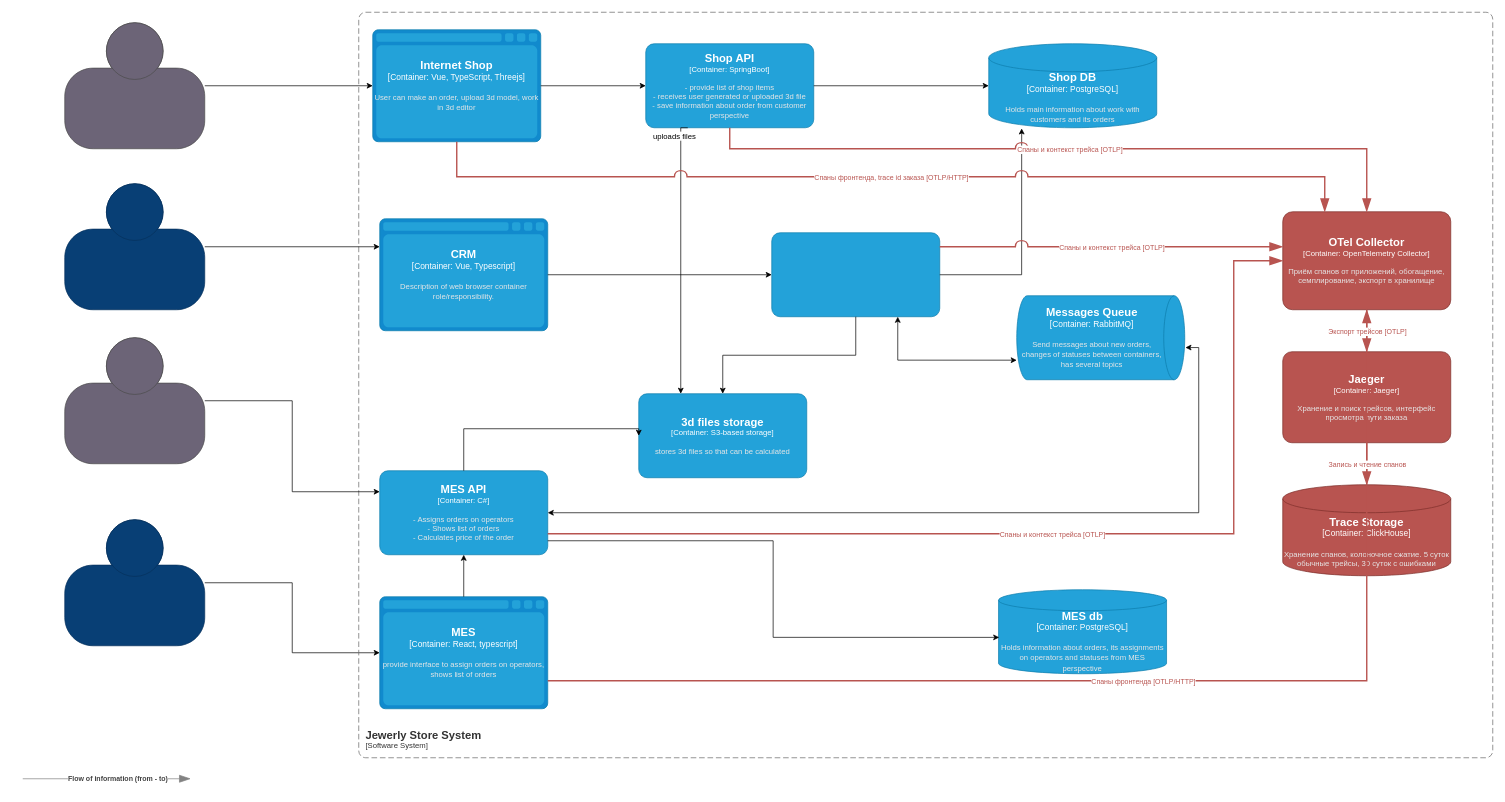
The diagram is 1505 pixels wide and 802 high, and some of its shapes have lost their labels. Here are the shapes that lost their labels. From the top down, the centre of each, then its label:
point (134, 85): Customer [Person] Description of external person.
point (134, 246): Seller [Person] Operates with order, confirms manufacturing for the user
point (855, 274): CRM API [Container: SpringBoot] Description of container role/responsibility.
point (134, 400): API user [Person] Description of external person.
point (134, 582): Operator [Person] Takes order in work, manufactures jewerly
